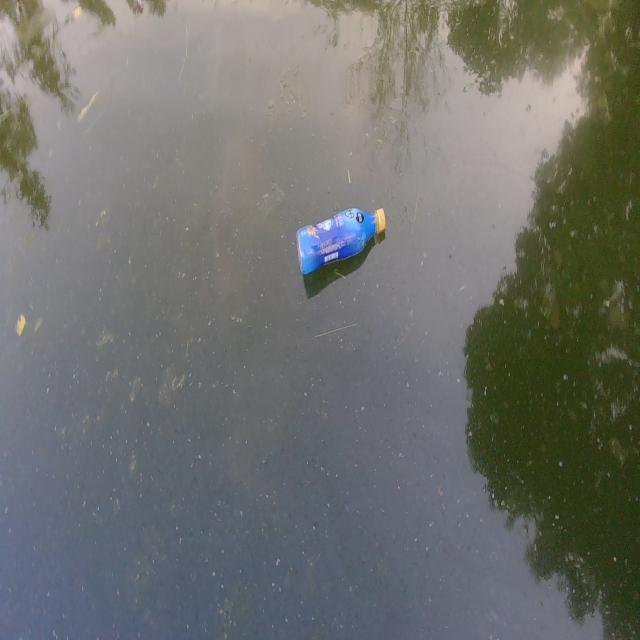garbage: (295, 205, 385, 275)
